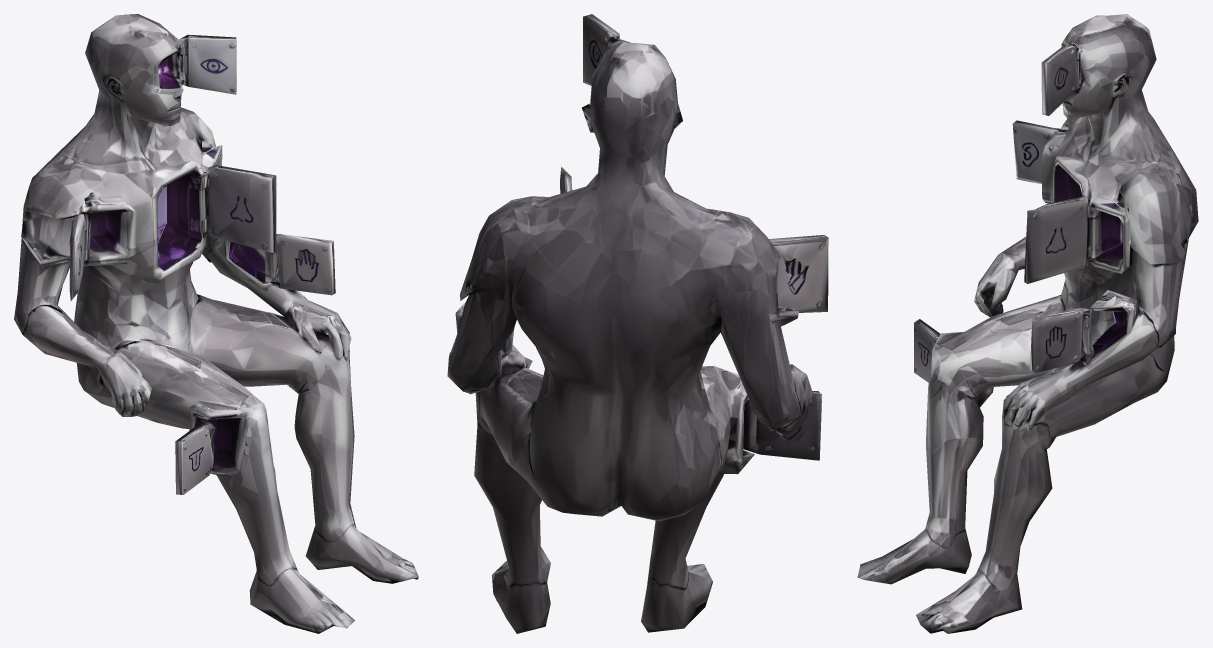
File: tripo_convert_55426ae6-7d7f-472e-8225-21e2274884e7.fbx
The picture shows the model from 3 angles, left to right: view 1: azimuth 30°, elevation 25°; view 2: azimuth 150°, elevation 25°; view 3: azimuth 270°, elevation 25°; orthographic projection. The views are drawn at different scales.
Parts seen in each view (by area): view 1: tripo_node_55426ae6; view 2: tripo_node_55426ae6; view 3: tripo_node_55426ae6.
Boxes of the visible parts, x1,y1,x2,y2 form: tripo_node_55426ae6: (14, 14, 418, 633); tripo_node_55426ae6: (447, 14, 828, 633); tripo_node_55426ae6: (857, 14, 1198, 633).
Size of the model in its own units: 0.6068 by 0.9788 by 0.5745.
1 material, 1 textured.
